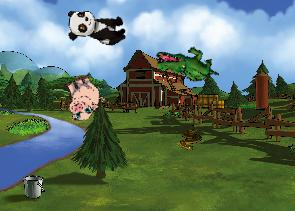crocodile: (154, 42, 219, 87)
panda: (65, 8, 128, 46)
pig: (56, 70, 108, 124)
